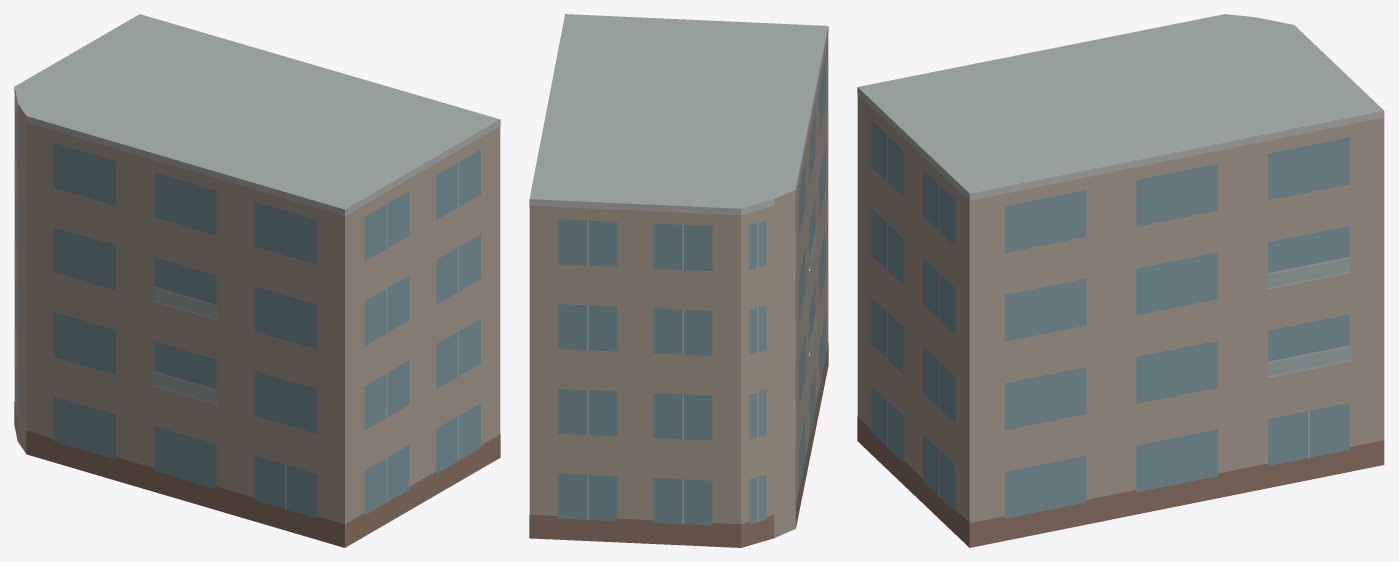
The model's file is survey-upis-32641456.glb.
The picture shows the model from 3 angles, left to right: view 1: azimuth 30°, elevation 25°; view 2: azimuth 150°, elevation 25°; view 3: azimuth 270°, elevation 25°; orthographic projection. The views are drawn at different scales.
Visible parts, largest first — view 1: survey-upis-32641456.tmp; view 2: survey-upis-32641456.tmp; view 3: survey-upis-32641456.tmp.
Boxes of the visible parts, box(x1,y1,x2,y2) form: survey-upis-32641456.tmp: box(14, 14, 500, 547); survey-upis-32641456.tmp: box(529, 14, 828, 547); survey-upis-32641456.tmp: box(857, 14, 1384, 547).
Size of the model in its own units: 13.73 by 12.6 by 17.
